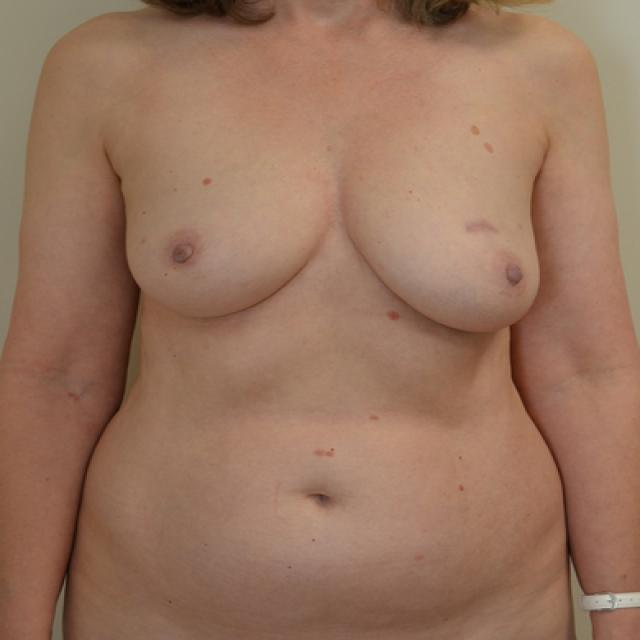Seno ileso: (111, 147, 331, 345), (340, 149, 559, 346)
